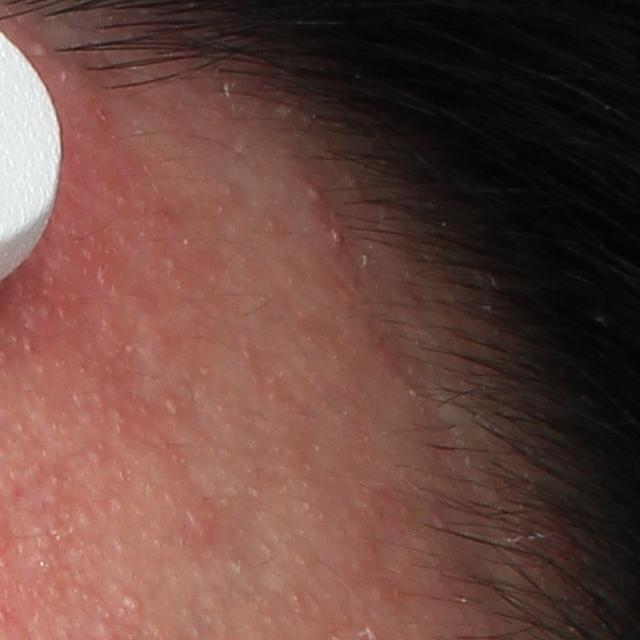comedo: (121, 593, 143, 612)
